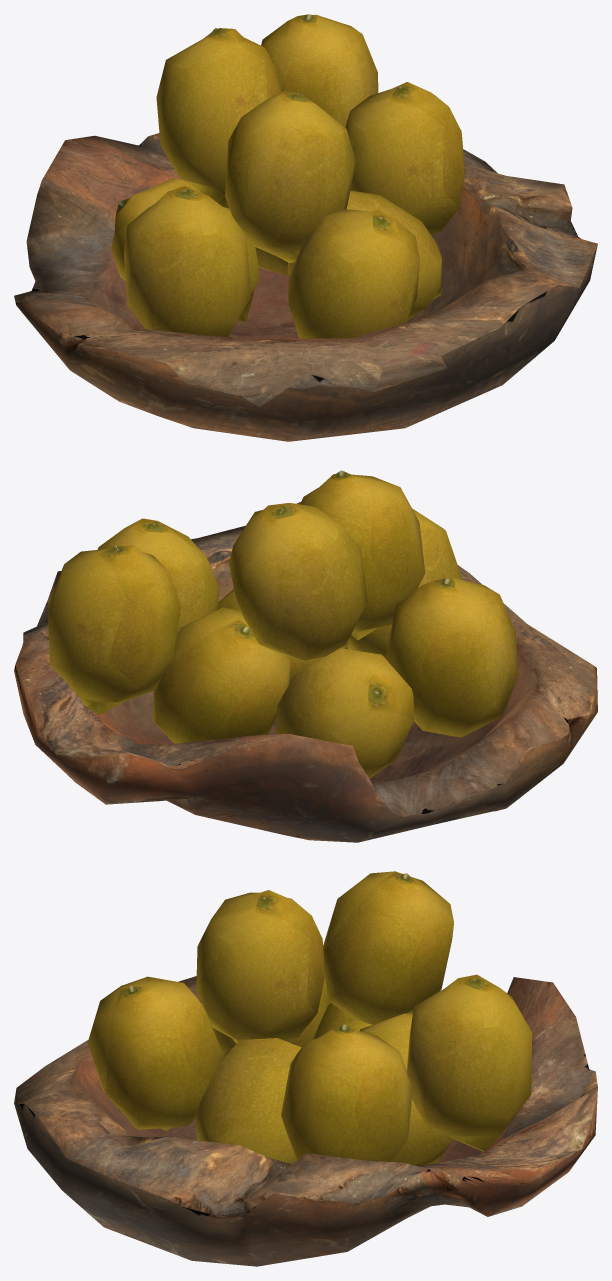
File: LemonBowl.glb
The picture shows the model from 3 angles, top to bottom: view 1: azimuth 30°, elevation 25°; view 2: azimuth 150°, elevation 25°; view 3: azimuth 270°, elevation 25°; orthographic projection. The views are drawn at different scales.
Visible parts, largest first — view 1: LemonBowl; view 2: LemonBowl; view 3: LemonBowl.
Part boxes in pixels (x1,y1,x2,y2): LemonBowl: (14,14,597,441); LemonBowl: (14,470,597,842); LemonBowl: (14,871,597,1266).
Size of the model in its own units: 0.3147 by 0.1804 by 0.3089.
2 materials, 2 textured.
